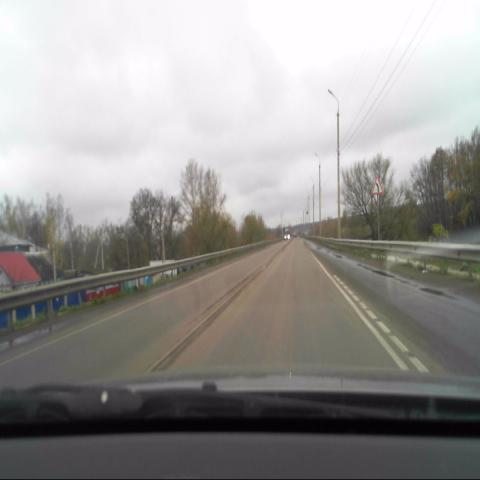1_11_1: (371, 176, 383, 195)
